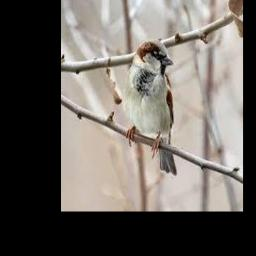Sparrow: (125, 39, 177, 175)
